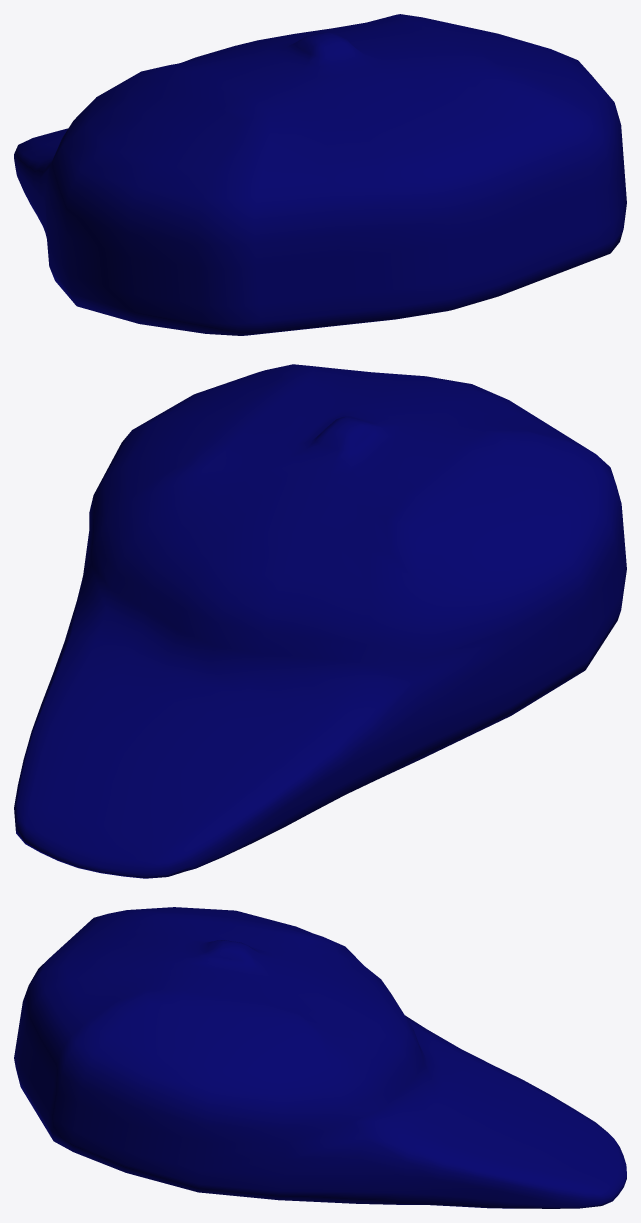
Rendered from Gorra.fbx.
3 renders of one model, top to bottom at view 1: azimuth 30°, elevation 25°; view 2: azimuth 150°, elevation 25°; view 3: azimuth 270°, elevation 25°, orthographic. The views are drawn at different scales.
Parts seen in each view (by area): view 1: GORRA; view 2: GORRA; view 3: GORRA.
Part boxes in pixels (x1,y1,x2,y2): GORRA: (14,14,626,335); GORRA: (14,364,626,878); GORRA: (14,907,626,1208).
Bounding box in the file's own units: 0.6455 × 0.3512 × 0.8681.
